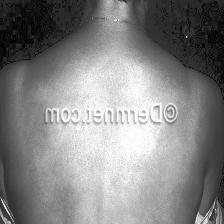Toxin: (45, 132, 161, 168), (41, 76, 167, 104)
